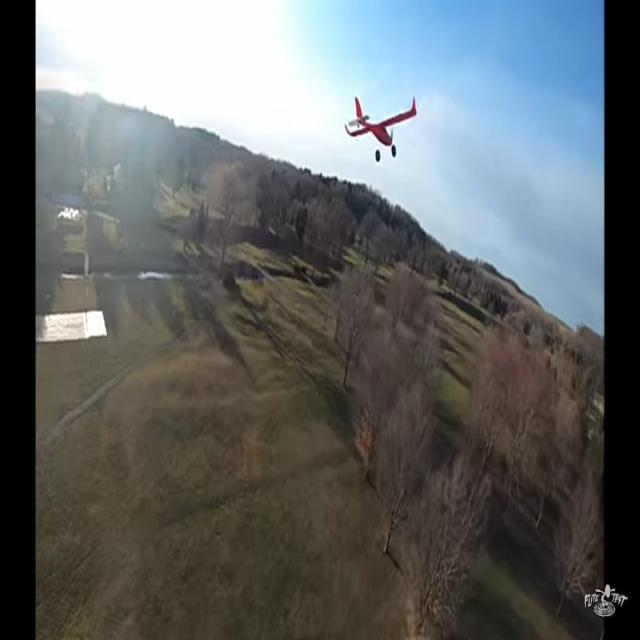iha: (379, 126, 382, 131)
